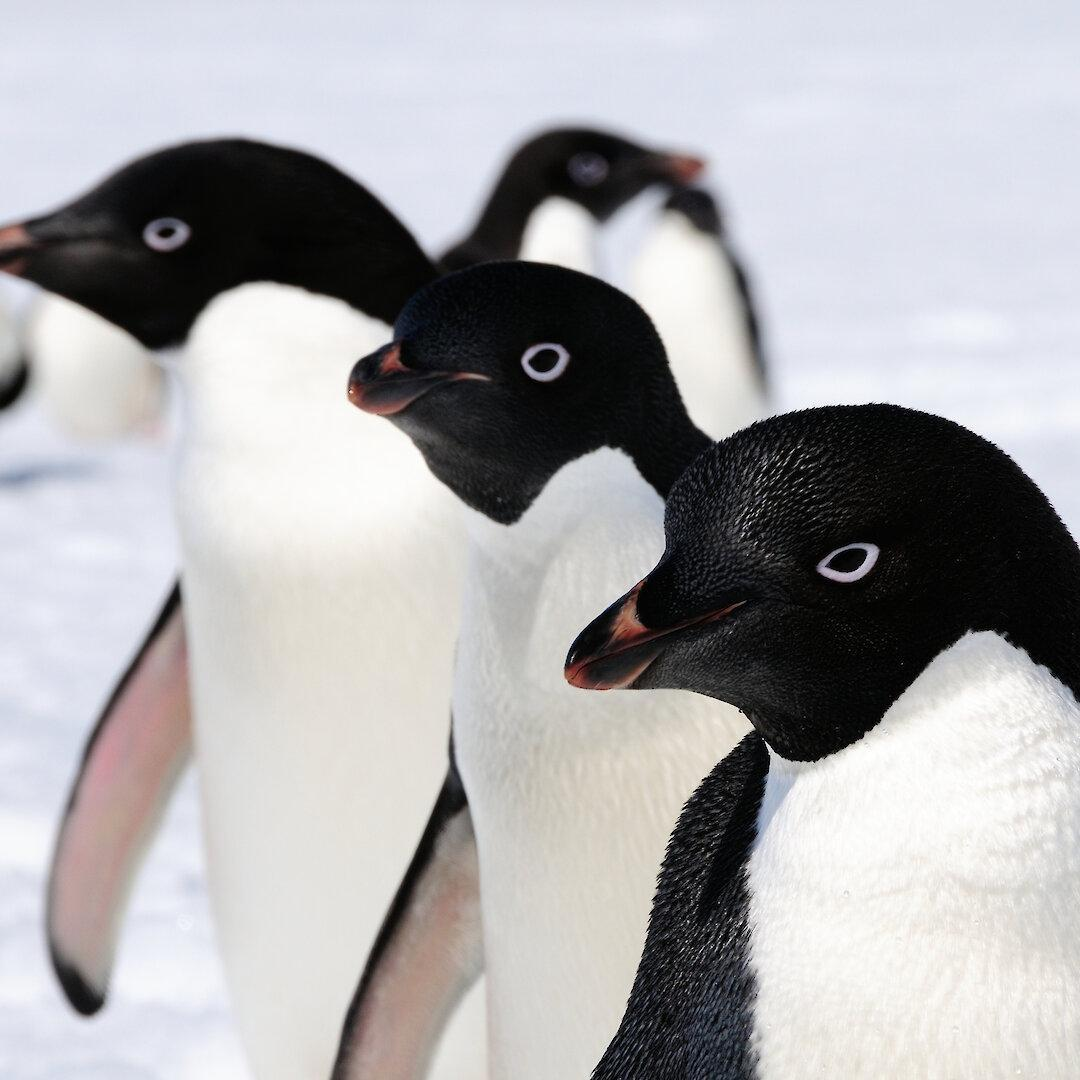Penguin: (0, 139, 464, 1078), (565, 405, 1078, 1078), (333, 262, 738, 1079), (437, 127, 769, 442)
